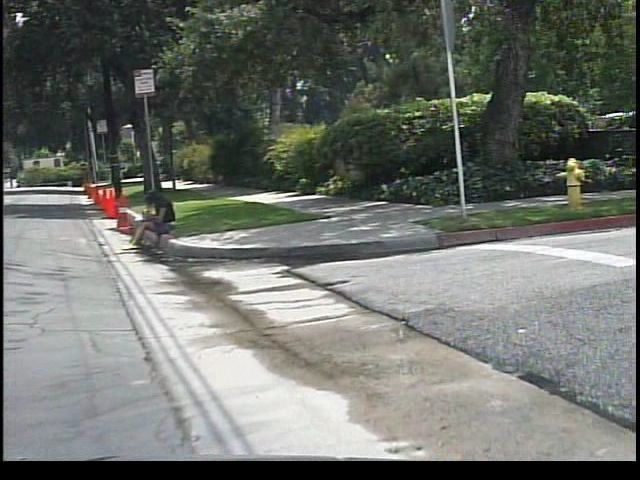person: (127, 188, 187, 251)
